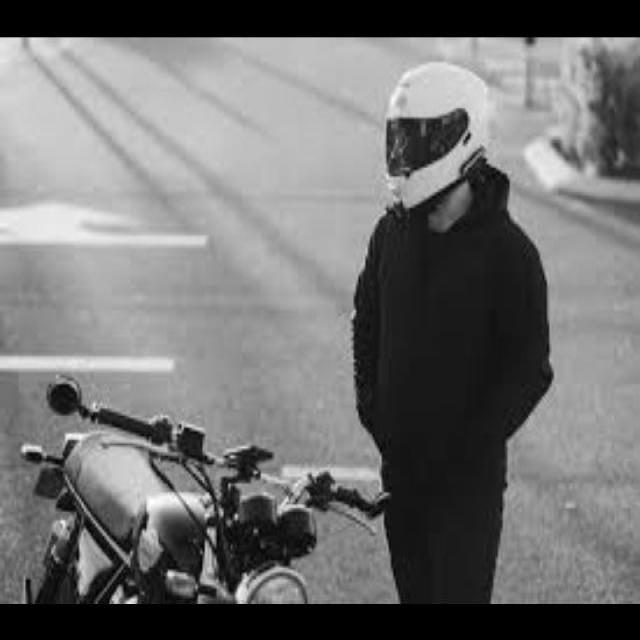5_casco: (379, 62, 497, 214)
